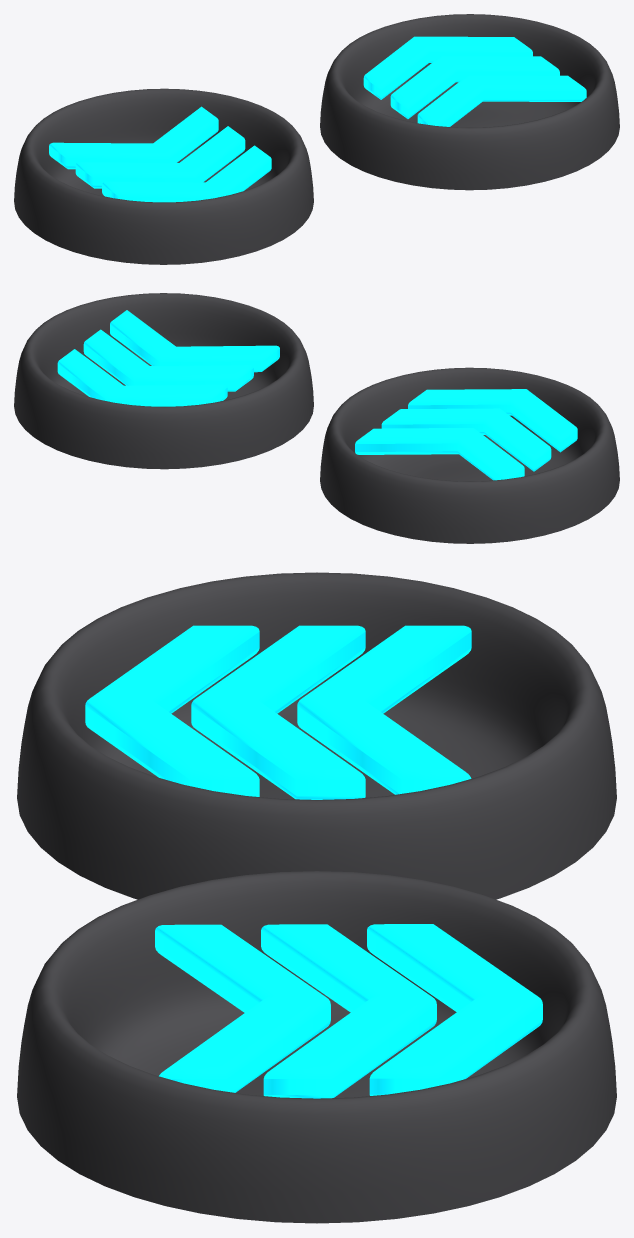
The model's file is powerup_meshes.fbx.
The picture shows the model from 3 angles, top to bottom: view 1: azimuth 30°, elevation 25°; view 2: azimuth 150°, elevation 25°; view 3: azimuth 270°, elevation 25°; orthographic projection. The views are drawn at different scales.
Parts seen in each view (by area): view 1: BezierCurve.002, BezierCurve.013; view 2: BezierCurve.002, BezierCurve.013; view 3: BezierCurve.013, BezierCurve.002.
Boxes of the visible parts, x1=… form: BezierCurve.002: x1=14, y1=88, x2=313, y2=264; BezierCurve.013: x1=320, y1=14, x2=619, y2=190; BezierCurve.002: x1=320, y1=367, x2=619, y2=543; BezierCurve.013: x1=14, y1=293, x2=313, y2=469; BezierCurve.013: x1=17, y1=871, x2=616, y2=1223; BezierCurve.002: x1=17, y1=572, x2=616, y2=899.
Size of the model in its own units: 370 by 38.65 by 170.
